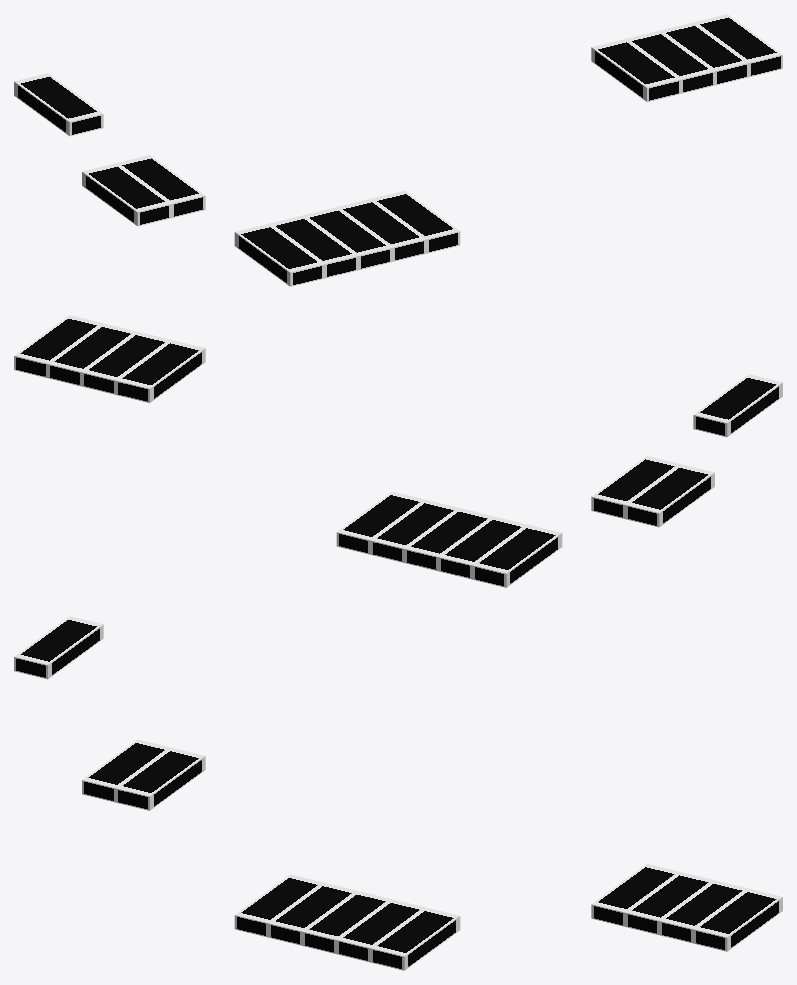
File: Luna5TransicaoFinalSolo.glb
3 renders of one model, top to bottom at view 1: azimuth 30°, elevation 25°; view 2: azimuth 150°, elevation 25°; view 3: azimuth 330°, elevation 25°, orthographic.
Visible parts, largest first — view 1: Setor_0; view 2: Setor_0; view 3: Setor_0.
Part boxes in pixels (x1=…): Setor_0: x1=14, y1=14, x2=782, y2=286; Setor_0: x1=14, y1=315, x2=782, y2=587; Setor_0: x1=14, y1=616, x2=782, y2=970.
Size of the model in its own units: 21 by 6.15 by 2.84.
1 material, 1 textured.
